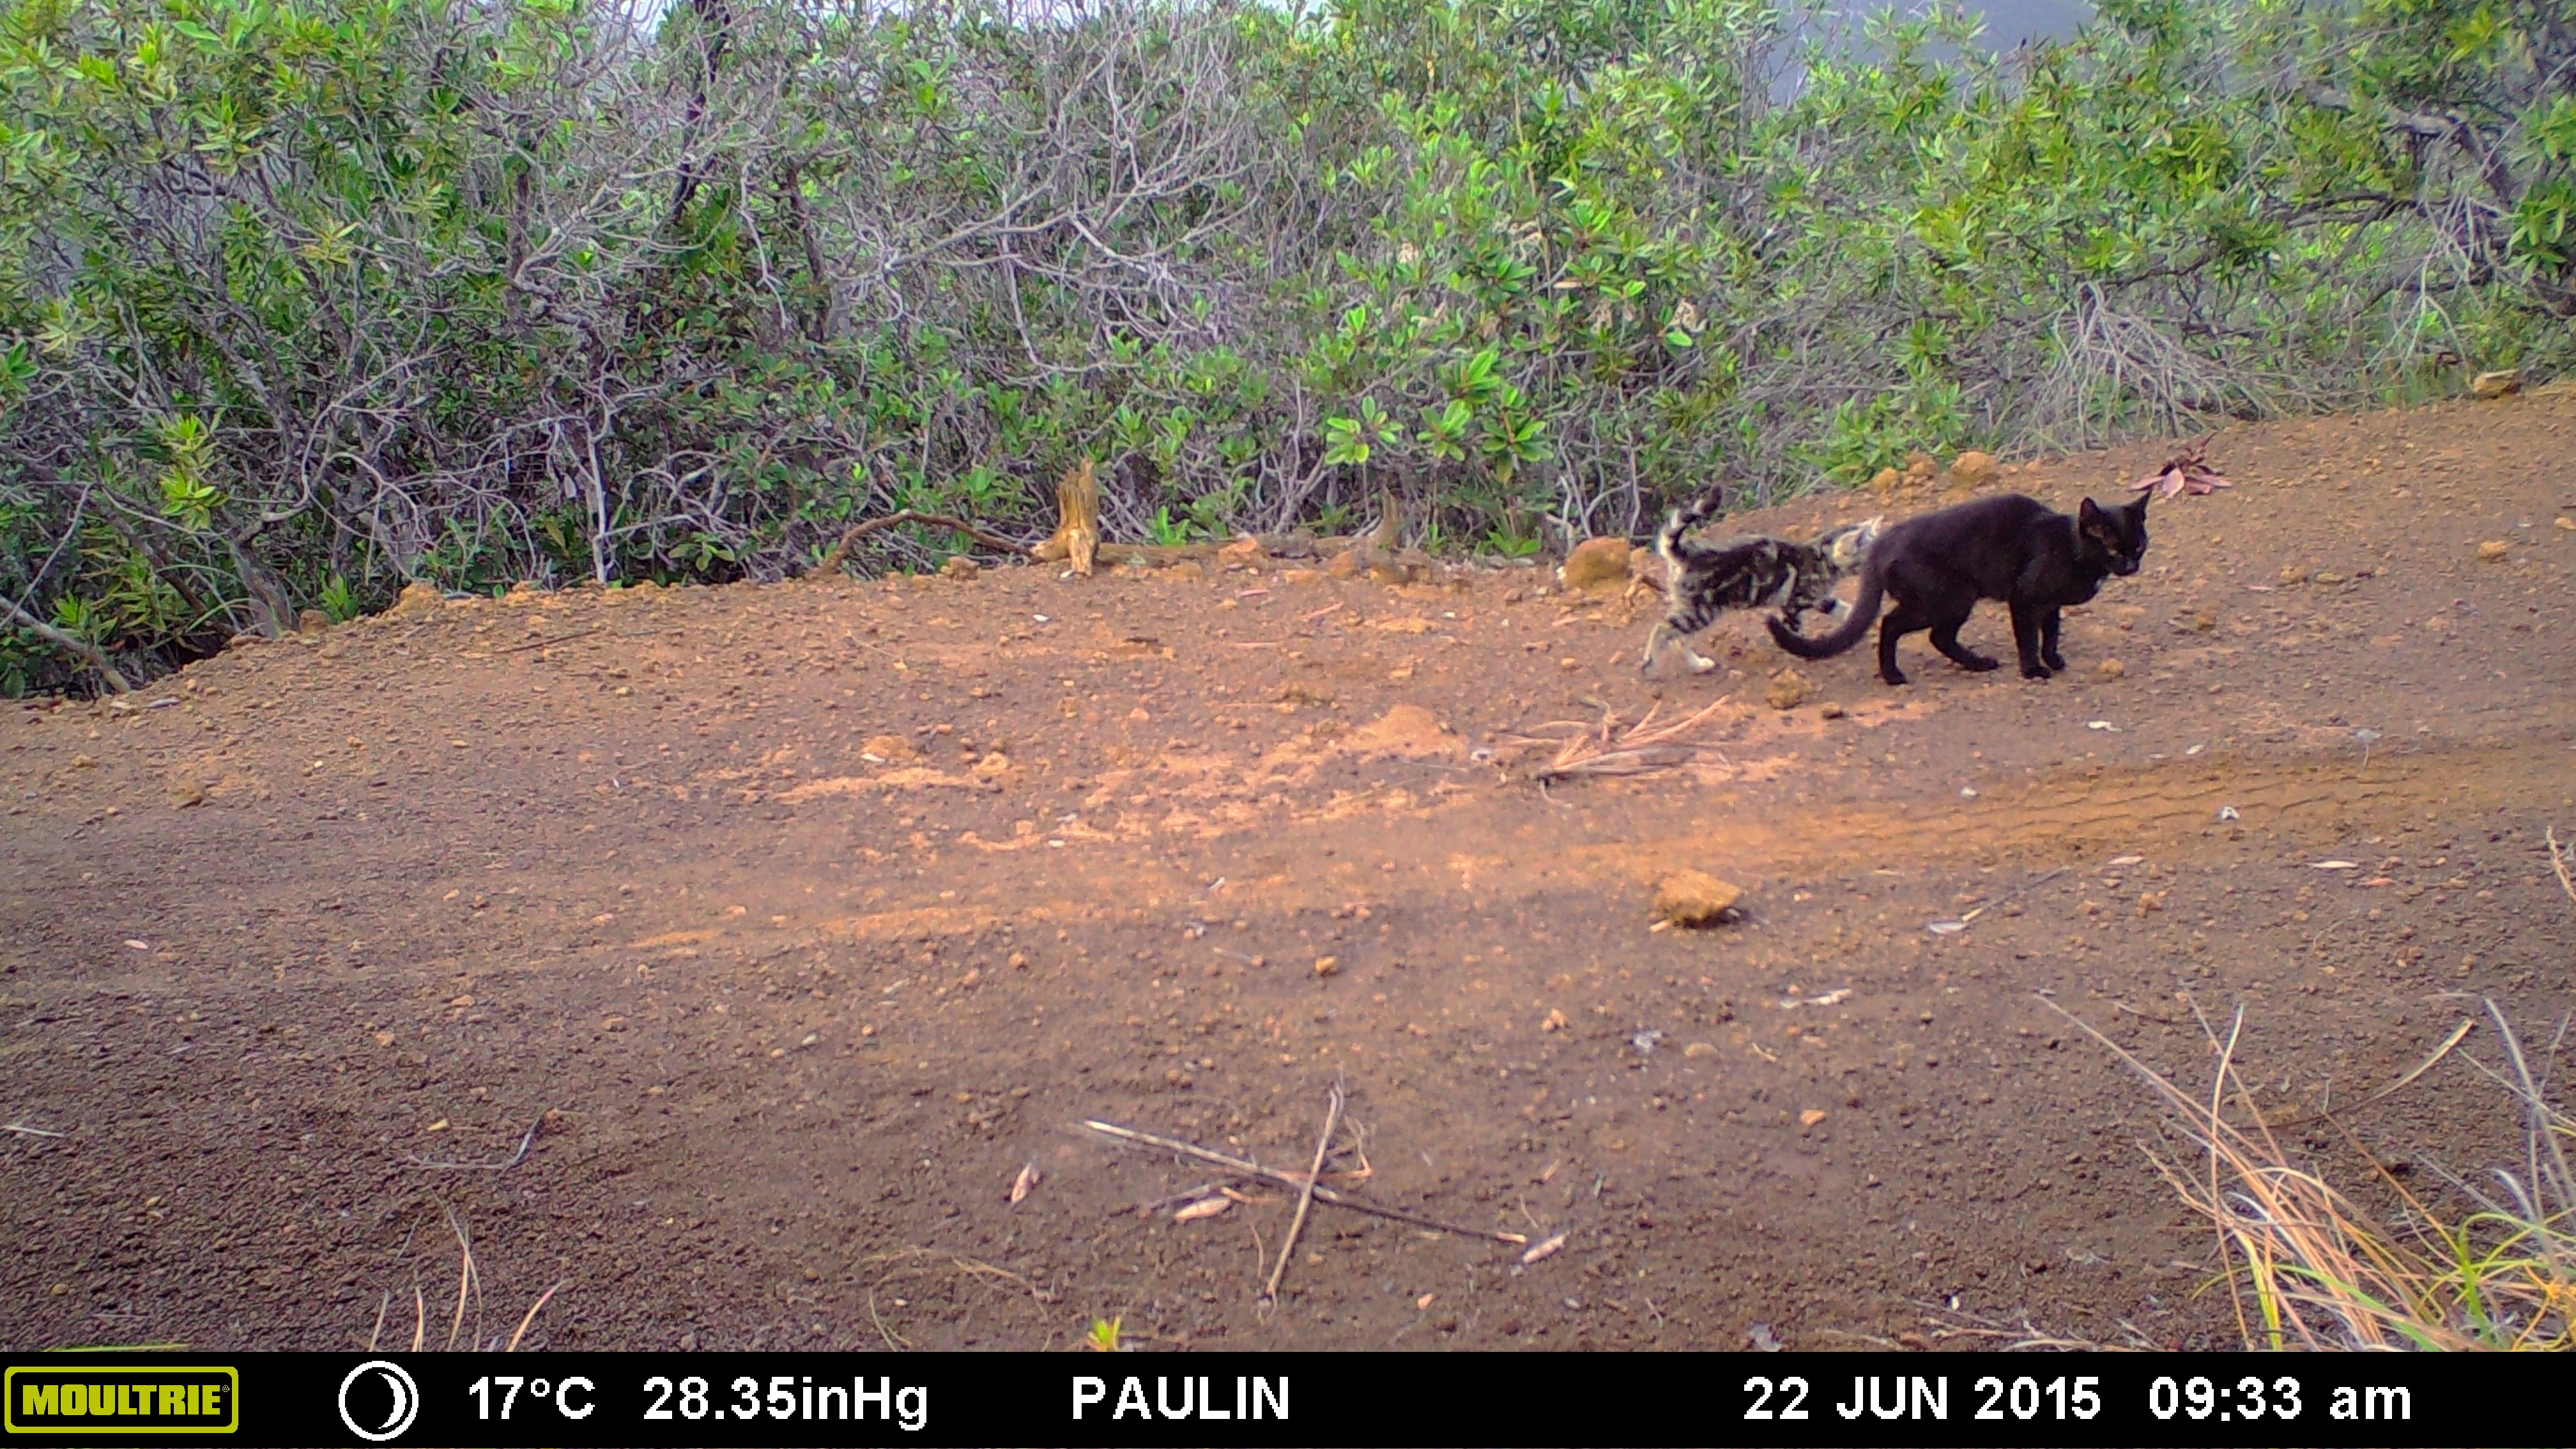cat: (1760, 478, 2178, 695), (1638, 469, 1897, 692)
